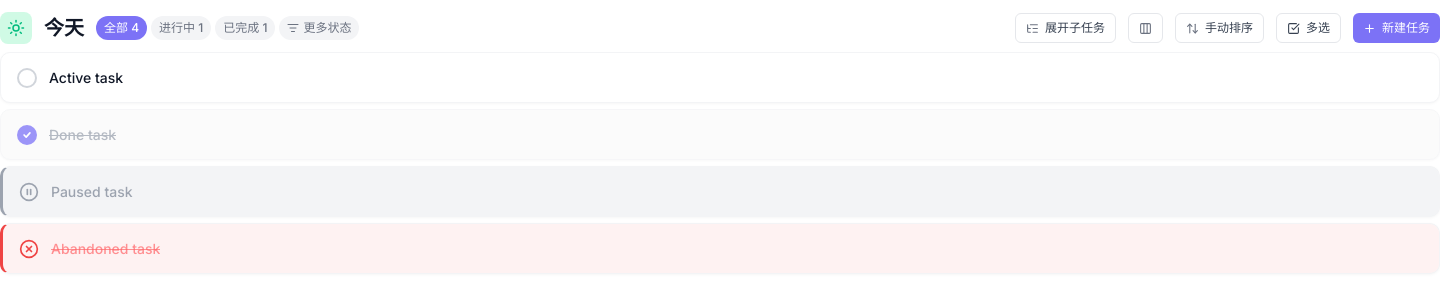
Test: TodayPage › filters completed and suspended tasks with exclusive counts
Click the button "已完成 1". click: (245, 28)
box: [215, 16, 276, 40]
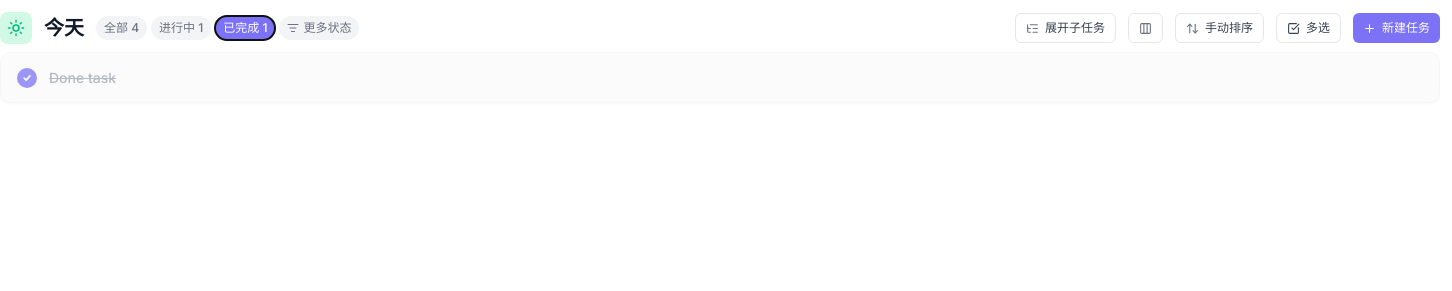
Expected: the text "Done task" is shown, [49, 67, 116, 88]
Expected: the button "Active task" is gone
Click the button "更多状态". click: (320, 28)
box: [280, 16, 360, 40]
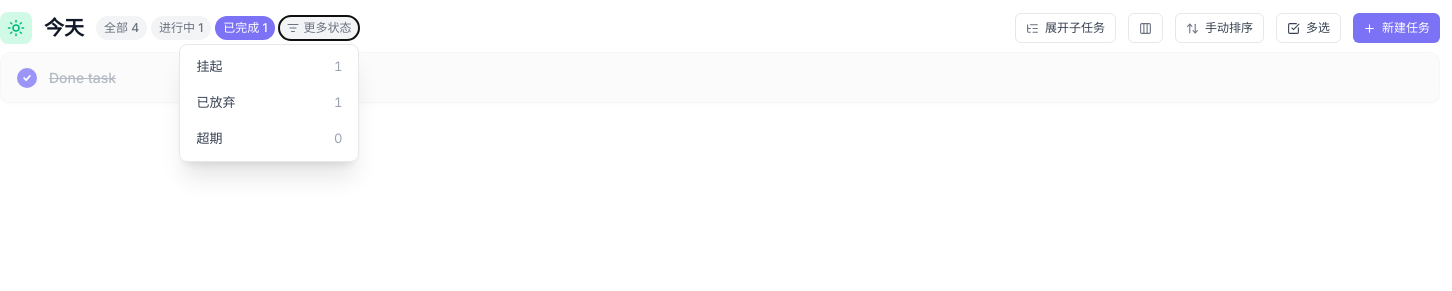
Click the menu item "挂起 1". click: (270, 67)
box: [184, 49, 354, 85]
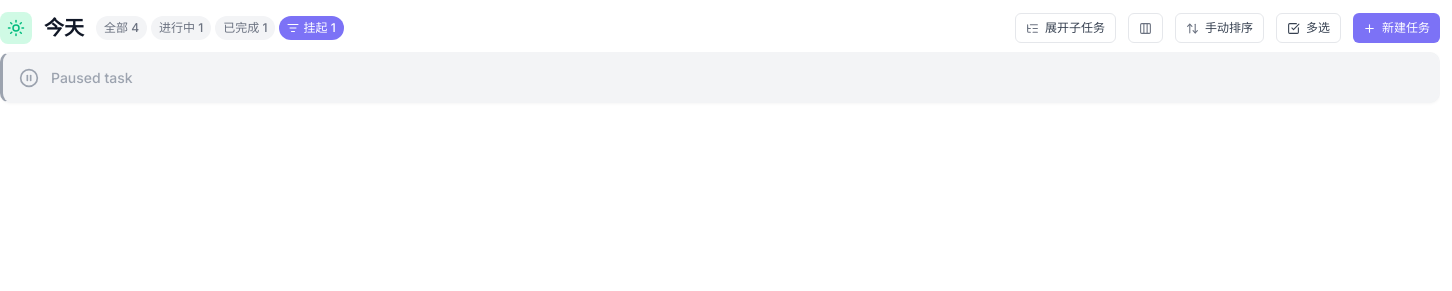
Expected: the text "Paused task" is shown, [51, 67, 133, 88]
Expected: the button "Done task" is gone
